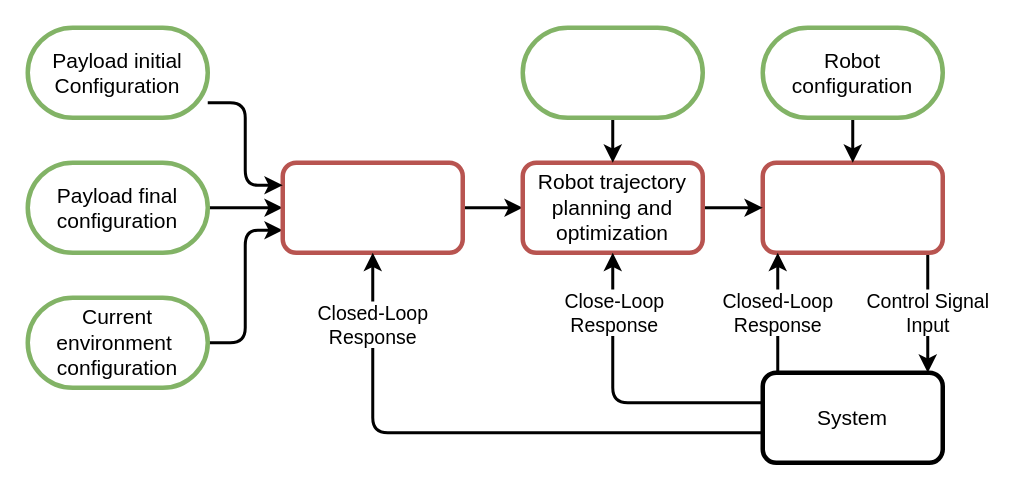
Image size: 1016x491. Some labels were removed from this diagram. Each missing label, with the centre of its shape:
"Payload path planning" goes at (x=372, y=207).
"Robot motion control algorithm" goes at (x=852, y=207).
"Robots Configuration" goes at (x=612, y=72).
